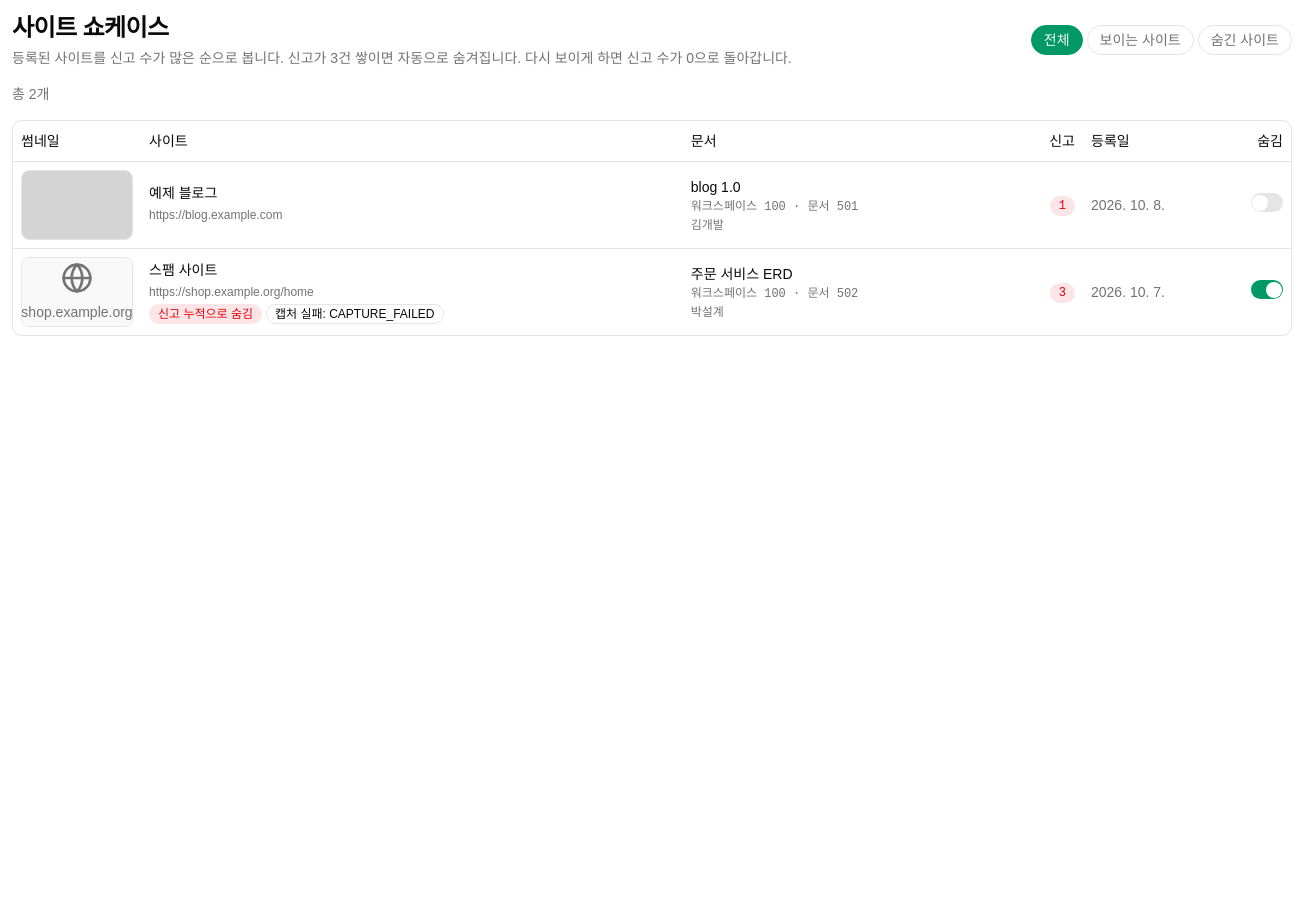
사이트 쇼케이스 관리 화면 › 숨김 스위치는 바로 PATCH하고 토스트를 띄운다
The width and height of the screenshot is (1304, 912).
Click the switch named "예제 블로그 숨김" at {"x": 1267, "y": 203}, box [1251,193,1283,212]
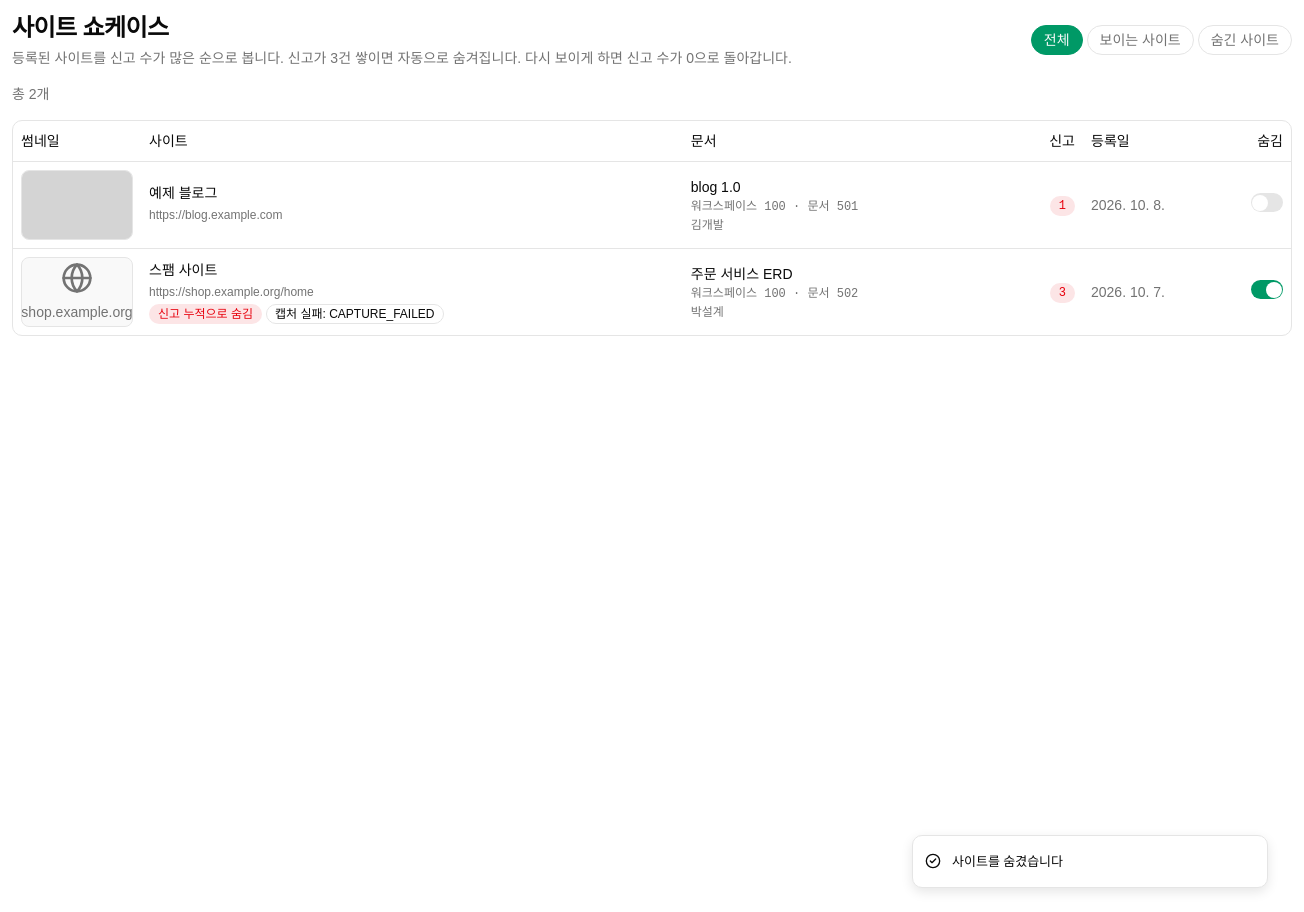
Result: the text "사이트를 숨겼습니다" is shown at [952,852,1063,871]
Click the switch named "스팸 사이트 숨김" at {"x": 1267, "y": 290}, box [1251,280,1283,299]
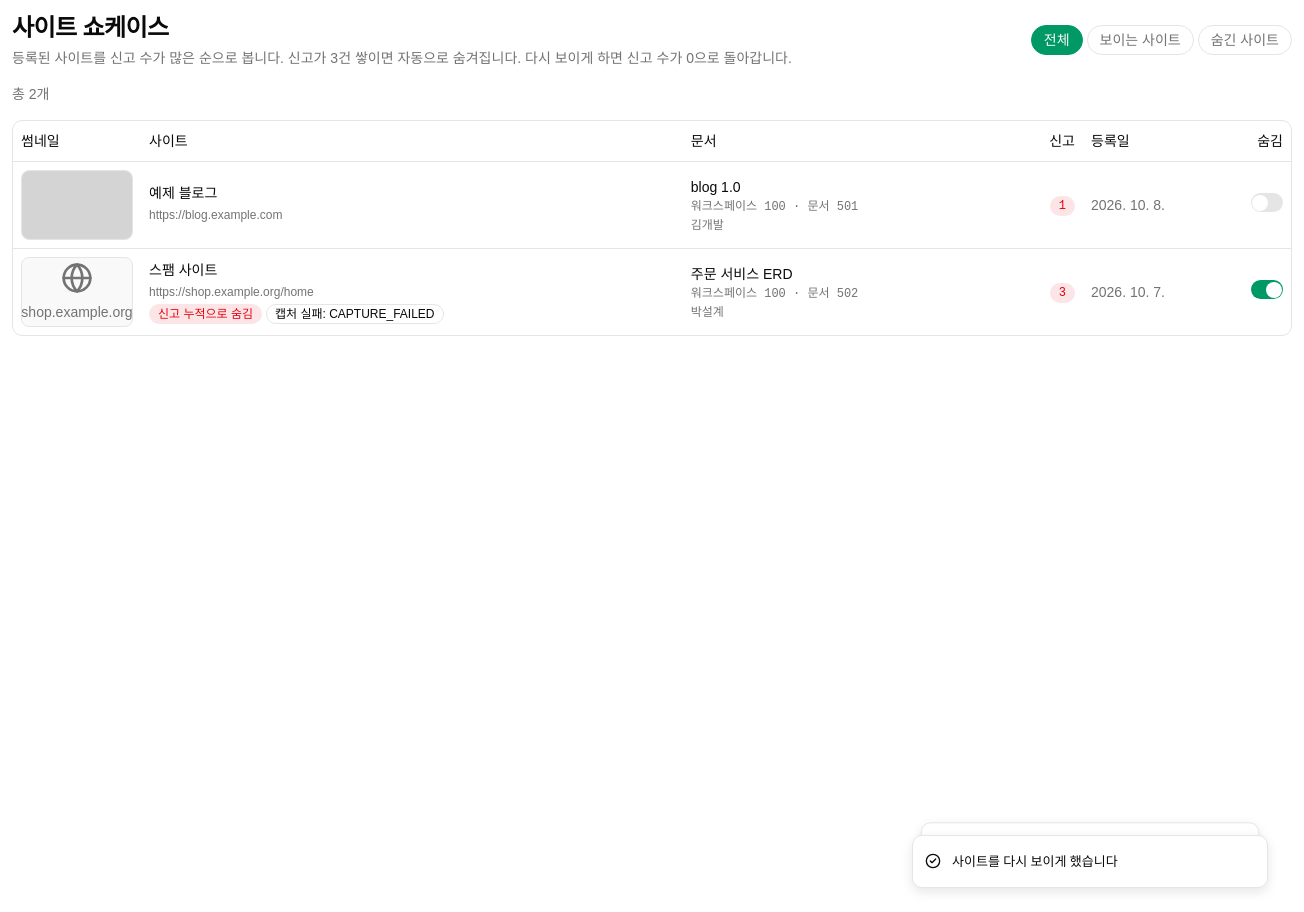
Result: the text "사이트를 다시 보이게 했습니다" is shown at [952,852,1118,871]
